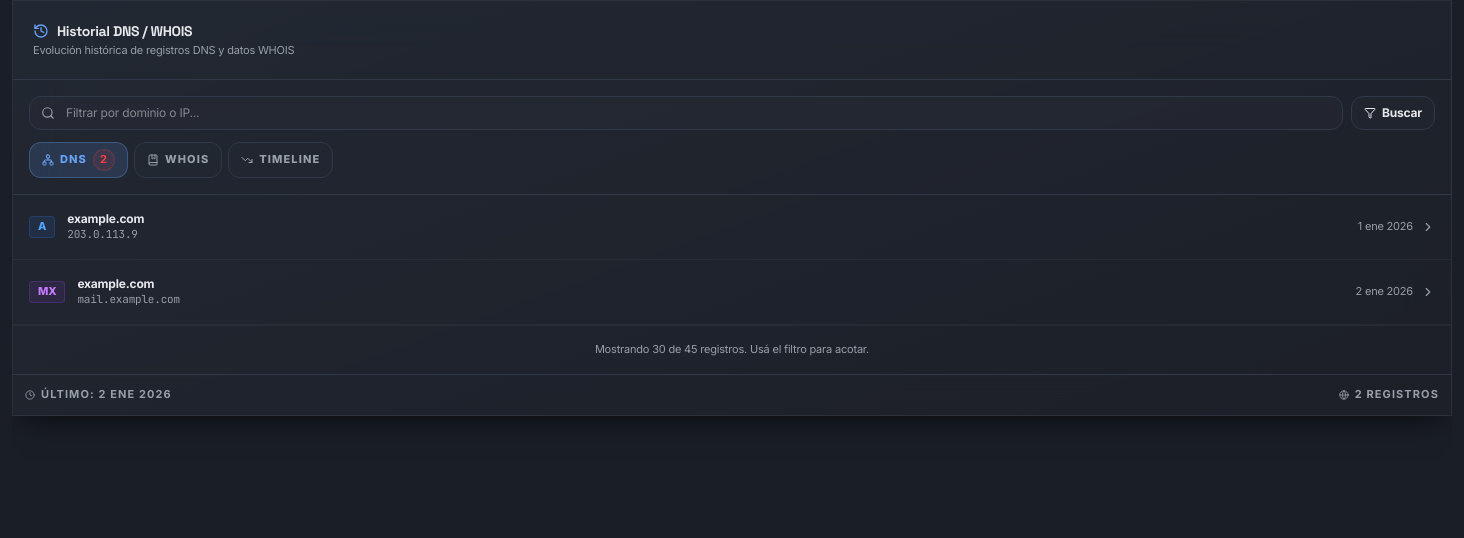
Test: HistoryPanel — historial DNS/WHOIS con fetch mockeado › renderiza snapshots DNS y expande el detalle al hacer clic
Check: the text "203.0.113.9" is shown, box [67, 227, 144, 243]
Check: the text "example.com" is shown 2 times, box [67, 211, 144, 227]; [77, 276, 154, 291]
Click the button "A example.com 203.0.113.9 1 ene 2026".
click(106, 218)  # box [13, 195, 1451, 259]
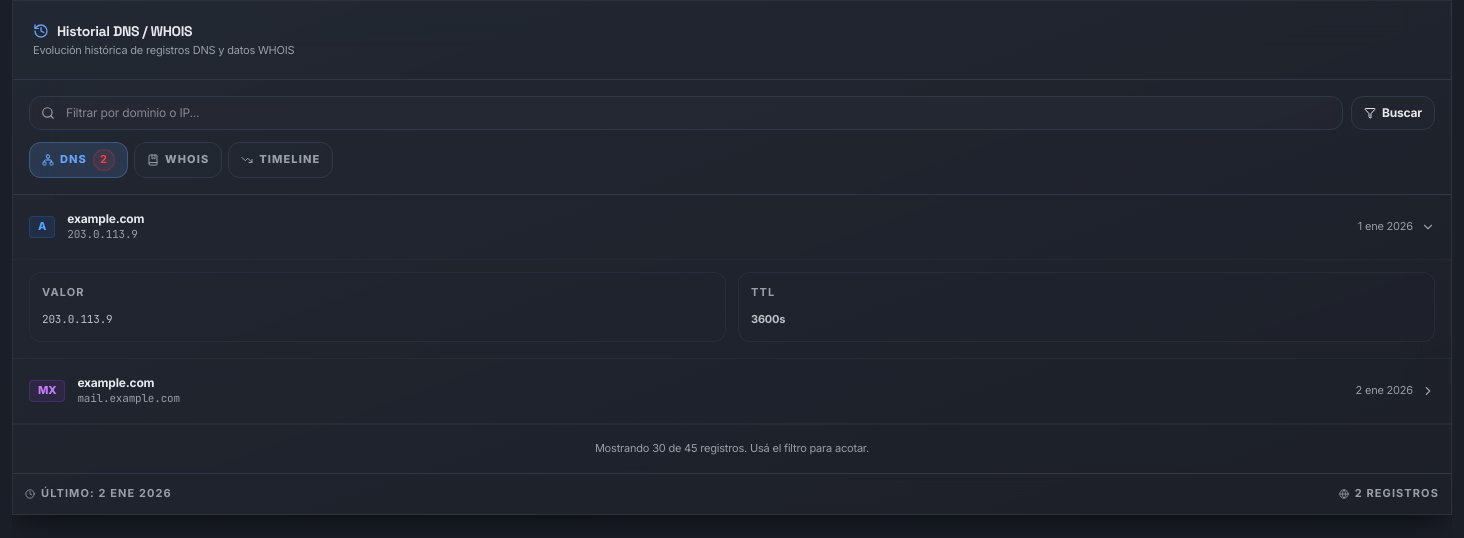
Check: the text "3600s" is shown, box [751, 312, 785, 326]
Click the button "A example.com 203.0.113.9 1 ene 2026".
click(106, 218)  # box [13, 195, 1451, 259]
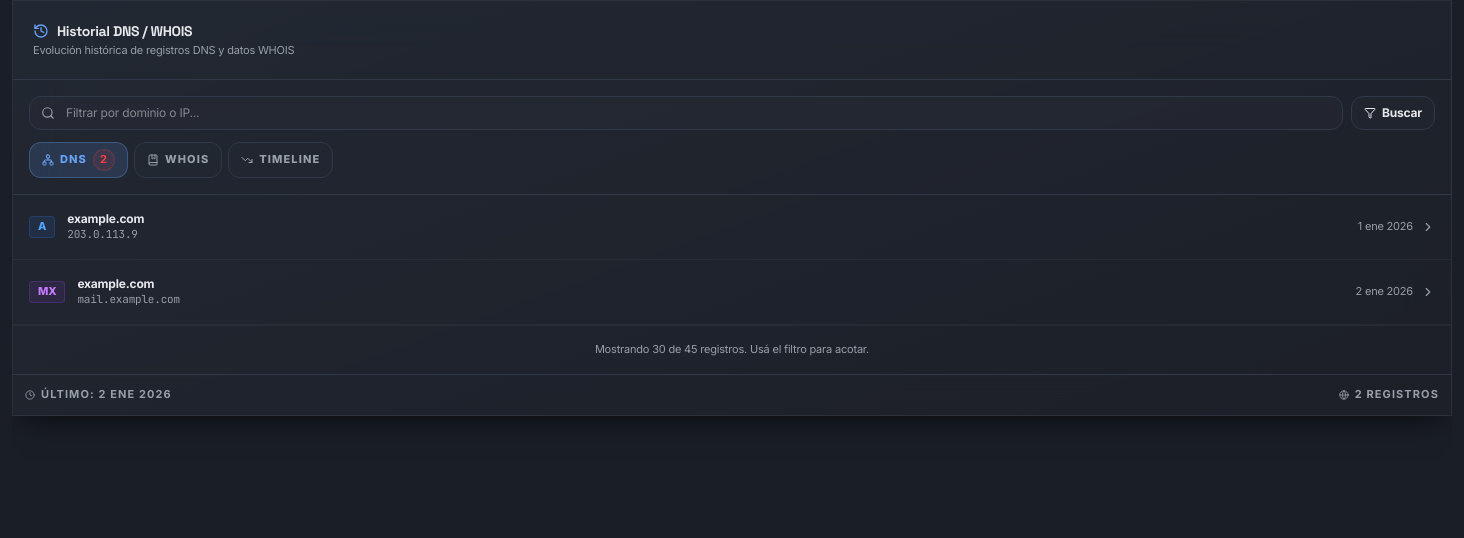
Check: the text "3600s" is gone
